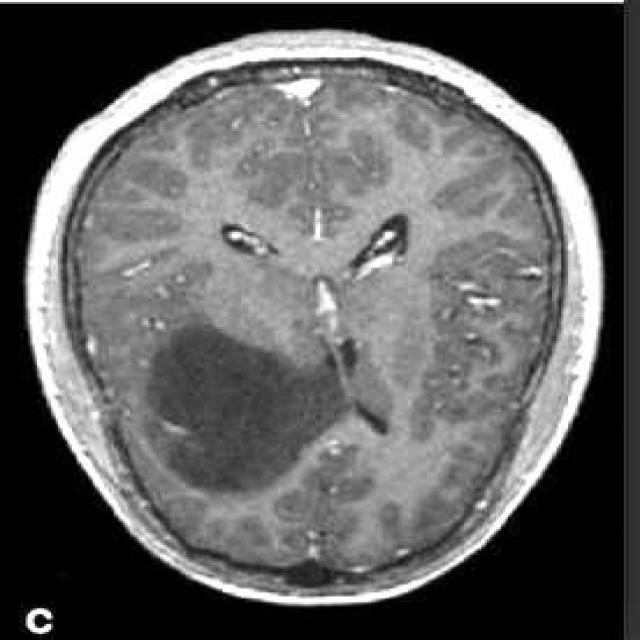brain tumor: (146, 321, 355, 491)
